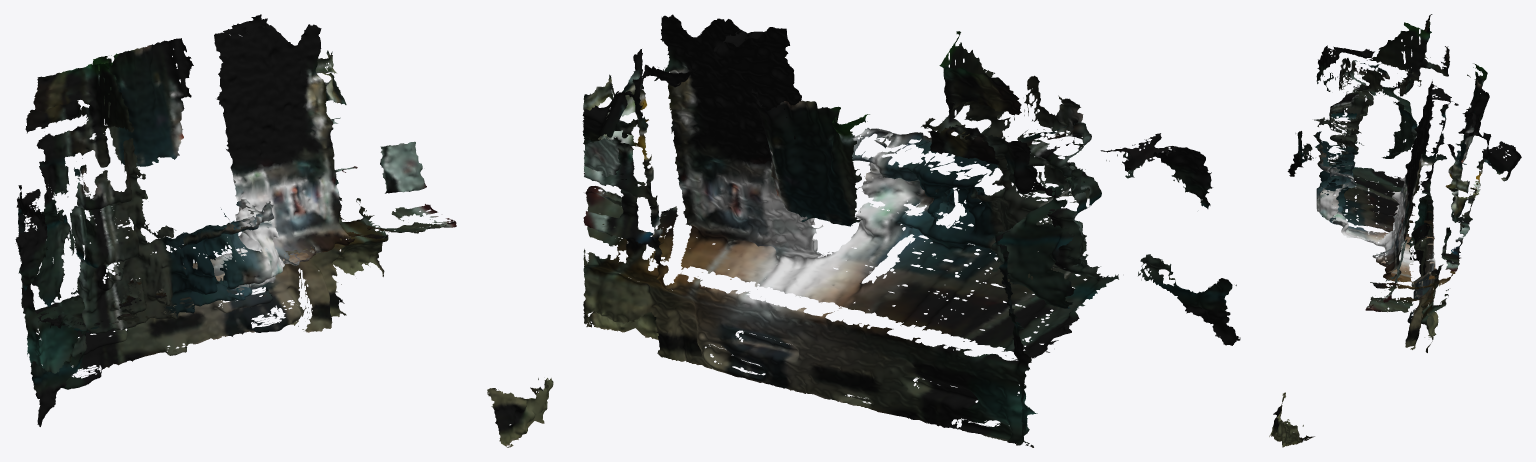
File: color_model_f008_20251226_162856.obj
3 renders of one model, left to right at view 1: azimuth 30°, elevation 25°; view 2: azimuth 150°, elevation 25°; view 3: azimuth 270°, elevation 25°, orthographic. The views are drawn at different scales.
Size of the model in its own units: 3.69 by 2.68 by 2.05.
